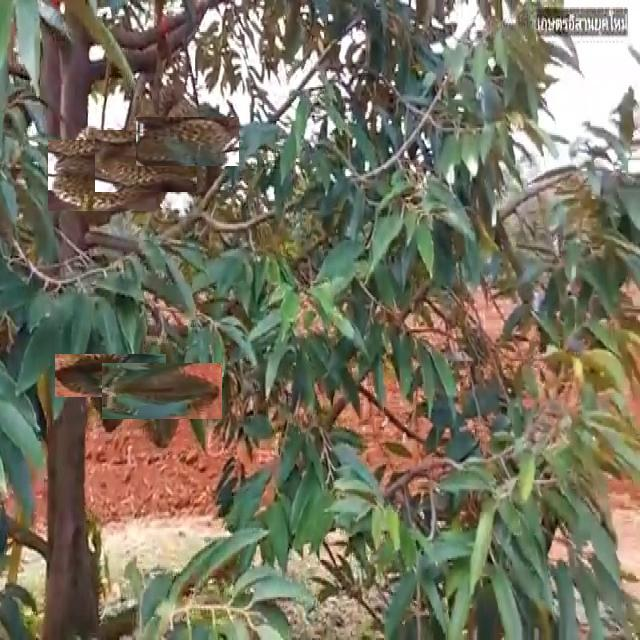durian: (57, 130, 147, 220), (118, 347, 207, 435), (105, 120, 188, 202), (72, 337, 149, 415), (149, 104, 226, 180)
